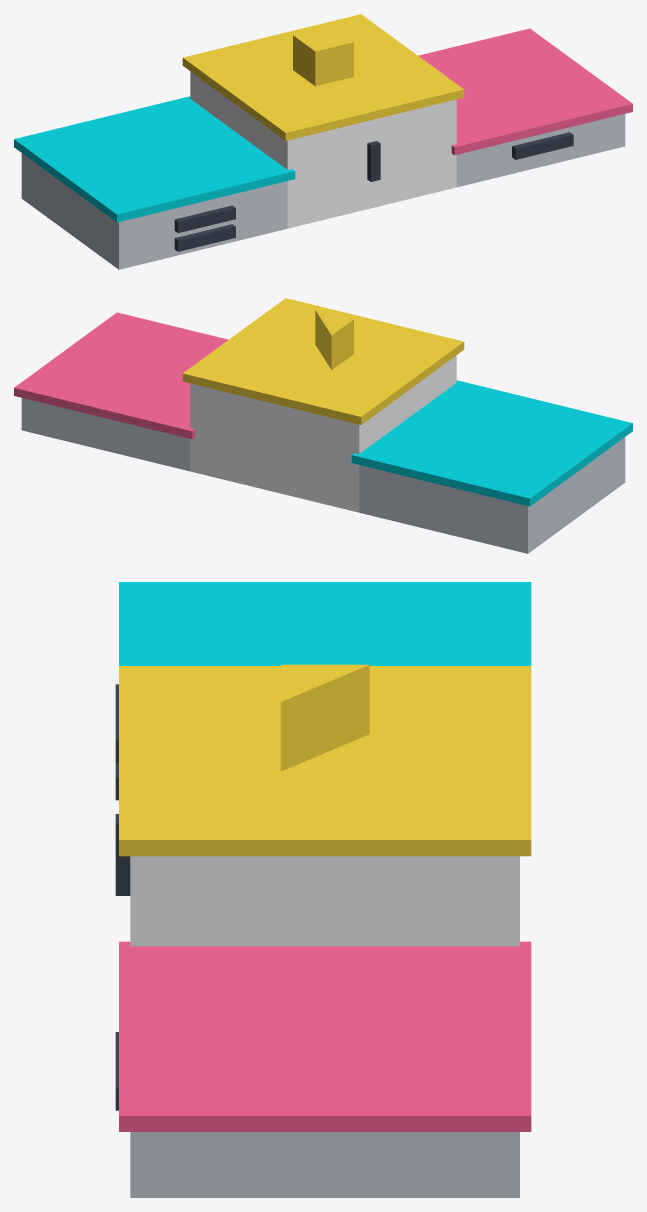
Rendered from Podium_Block.fbx.
The picture shows the model from 3 angles, top to bottom: view 1: azimuth 30°, elevation 25°; view 2: azimuth 150°, elevation 25°; view 3: azimuth 270°, elevation 25°; orthographic projection. The views are drawn at different scales.
Visible parts, largest first — view 1: Podium_Block; view 2: Podium_Block; view 3: Podium_Block.
Part boxes in pixels (left/top/right/bottom): Podium_Block: left=14, top=14, right=632, bottom=269; Podium_Block: left=14, top=298, right=632, bottom=553; Podium_Block: left=115, top=582, right=531, bottom=1197.
Size of the model in its own units: 1070 by 265 by 373.
